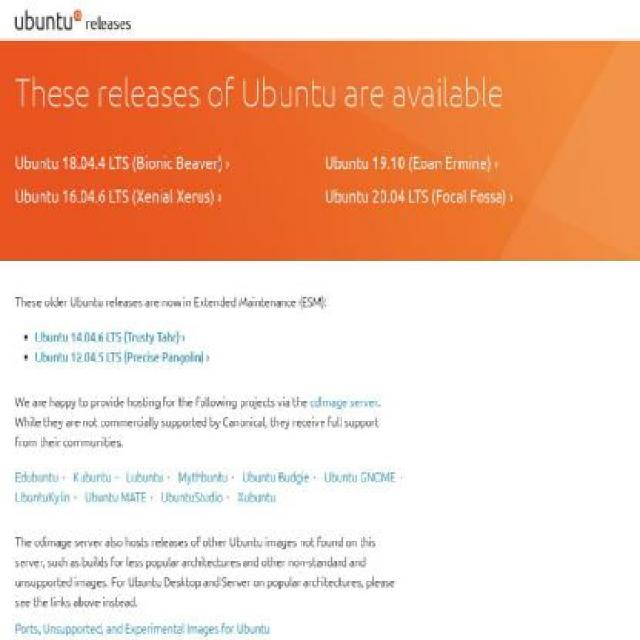button: (15, 0, 131, 40)
